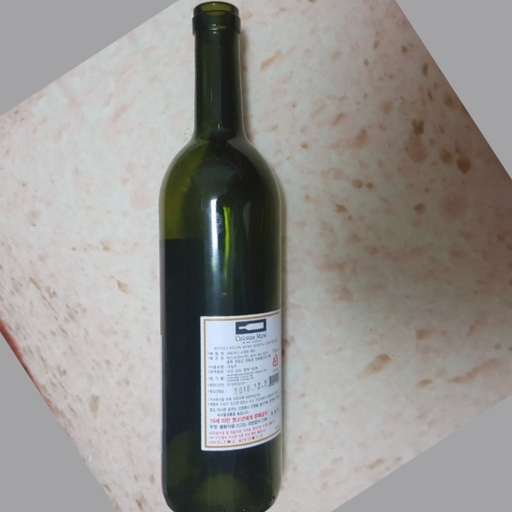Glass_2: (152, 1, 286, 512)
